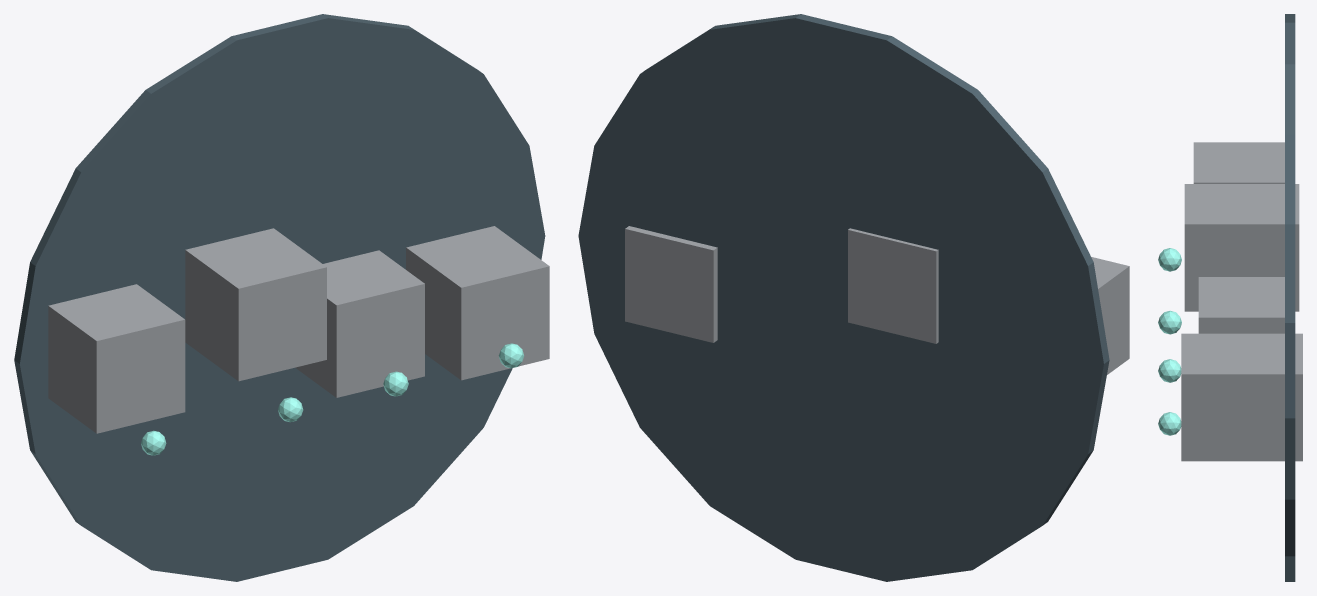
File: 02_display_prop_cluster.glb
The picture shows the model from 3 angles, left to right: view 1: azimuth 30°, elevation 25°; view 2: azimuth 150°, elevation 25°; view 3: azimuth 270°, elevation 25°; orthographic projection. The views are drawn at different scales.
Visible parts, largest first — view 1: scatter_base, tech_crate_1, tech_crate_0, tech_crate_3, tech_crate_2; view 2: scatter_base, tech_crate_3, tech_crate_1, tech_crate_0; view 3: tech_crate_3, tech_crate_1, scatter_base, tech_crate_2, tech_crate_0, status_light_2, status_light_0, status_light_1, status_light_3.
Boxes of the visible parts, bbox=[...] form: scatter_base: bbox=[14, 14, 545, 581]; tech_crate_1: bbox=[185, 228, 326, 381]; tech_crate_0: bbox=[48, 284, 185, 433]; tech_crate_3: bbox=[406, 226, 549, 380]; tech_crate_2: bbox=[295, 250, 424, 397]; scatter_base: bbox=[578, 14, 1109, 581]; tech_crate_3: bbox=[625, 226, 717, 342]; tech_crate_1: bbox=[848, 228, 938, 343]; tech_crate_0: bbox=[1091, 257, 1129, 374]; tech_crate_3: bbox=[1181, 333, 1302, 461]; tech_crate_1: bbox=[1184, 184, 1299, 311]; scatter_base: bbox=[1285, 14, 1295, 581]; tech_crate_2: bbox=[1198, 277, 1284, 333]; tech_crate_0: bbox=[1193, 142, 1284, 183]; status_light_2: bbox=[1158, 359, 1181, 382]; status_light_0: bbox=[1158, 248, 1181, 271]; status_light_1: bbox=[1158, 310, 1181, 334]; status_light_3: bbox=[1158, 412, 1181, 435].
Bounding box in the file's own units: 1.9 × 1.87 × 0.4826.
